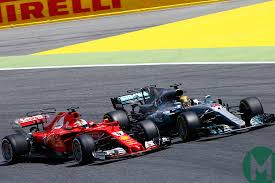f1_car: (101, 80, 275, 151), (1, 104, 176, 173)
